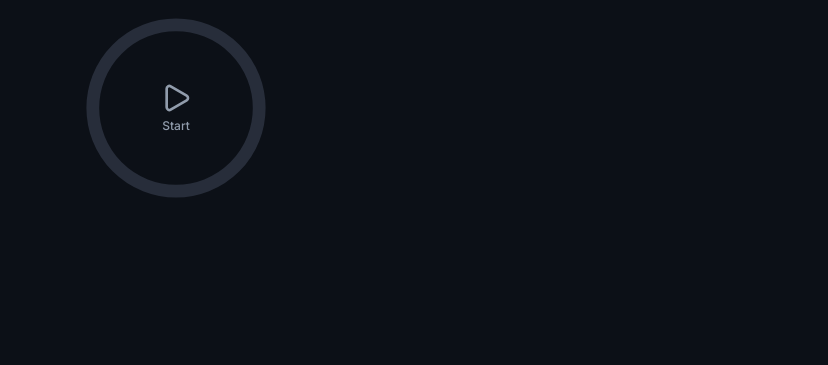
Test: A307 — next up during rest › shows the label passed by the step during the set rest
Expected: the text "Next · " is not shown
Click the button "Start". click: click(176, 108)
box: [160, 82, 192, 134]
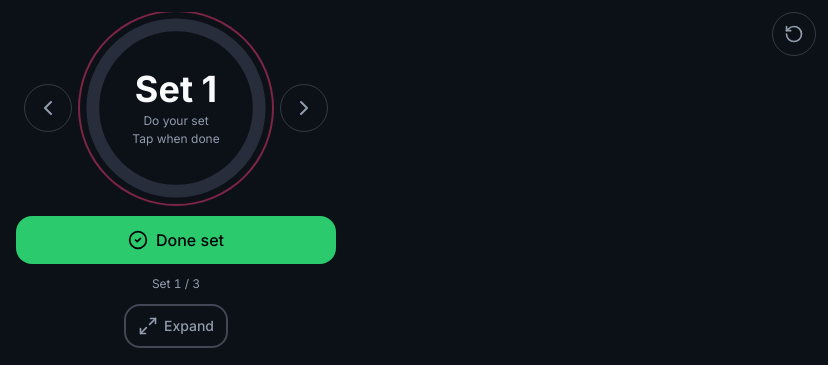
Expected: the text "Next · " is not shown
Click the button "Done set". click: click(176, 240)
box: [16, 216, 336, 264]
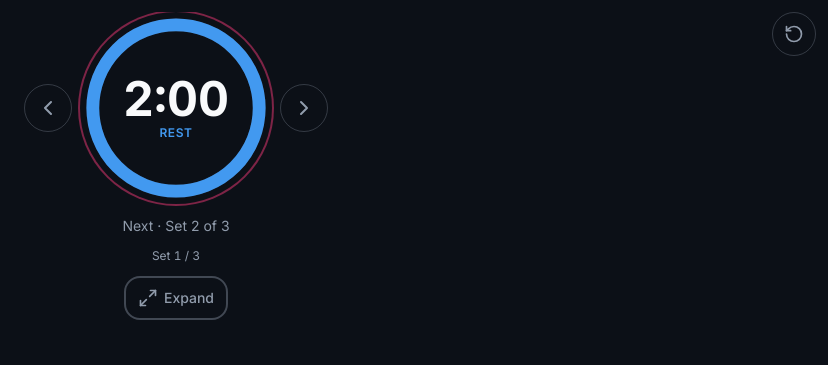
Result: the text "Next · Set 2 of 3" is shown at [122, 216, 230, 236]
